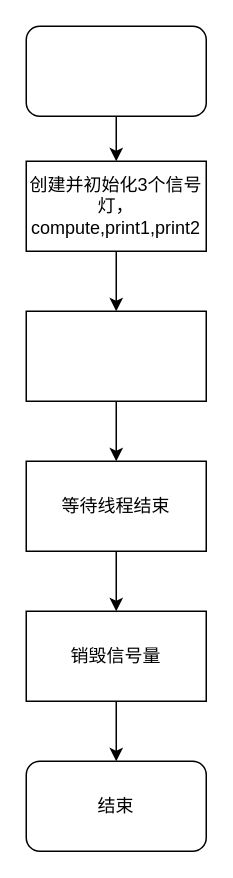
Some shapes in this 233 by 878 pixel diagram are drawn without their labels. Each missing label, with the centre of its shape:
"创建3个线程，计算、打印奇数、打印偶数" belongs at pixel 115 355.
"开始" belongs at pixel 115 70.
